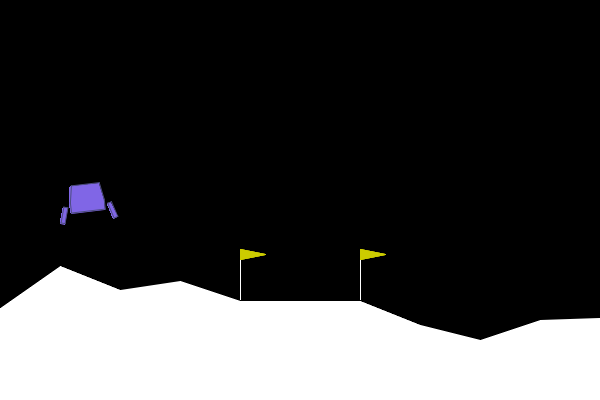lander: (55, 179, 119, 226)
